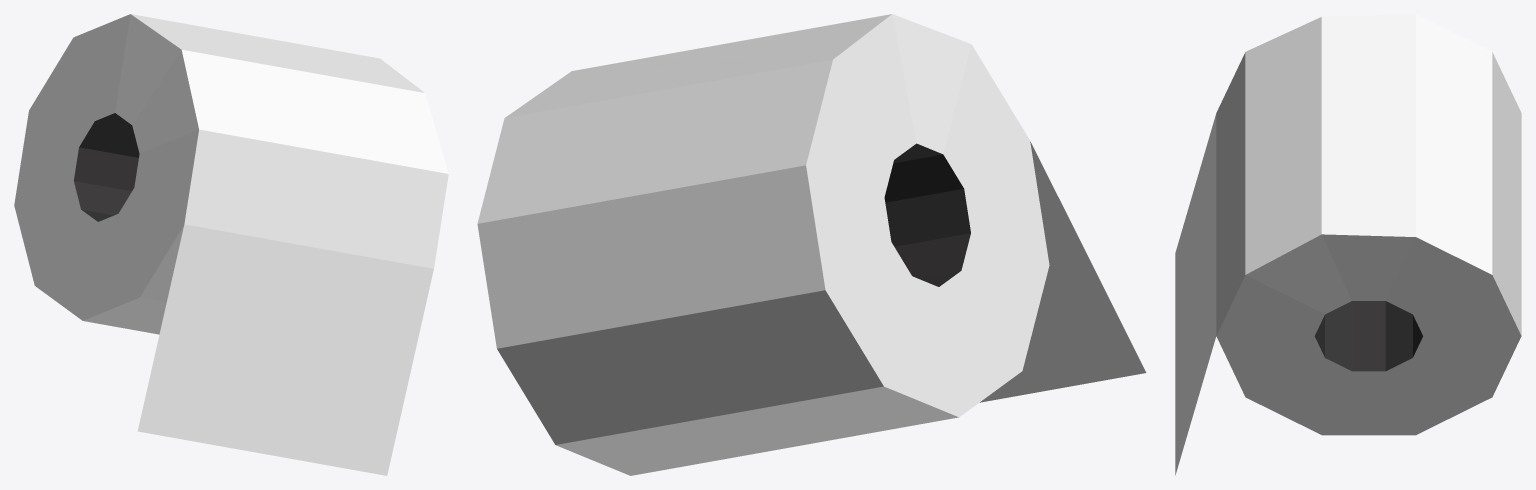
File: papel_1 (1).fbx
The picture shows the model from 3 angles, left to right: view 1: azimuth 30°, elevation 25°; view 2: azimuth 150°, elevation 25°; view 3: azimuth 270°, elevation 25°; orthographic projection. The views are drawn at different scales.
Parts seen in each view (by area): view 1: Cylinder; view 2: Cylinder; view 3: Cylinder.
Boxes of the visible parts, left/top/right/bottom form: Cylinder: left=14, top=14, right=448, bottom=475; Cylinder: left=477, top=14, right=1146, bottom=475; Cylinder: left=1175, top=14, right=1521, bottom=475.
Bounding box in the file's own units: 57.13 × 60.55 × 47.76.
